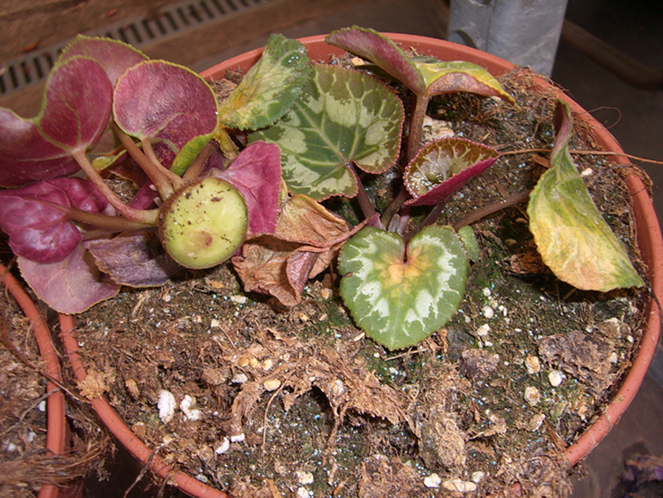Fusarium: (349, 238, 447, 320), (160, 388, 202, 428), (411, 161, 447, 190)
